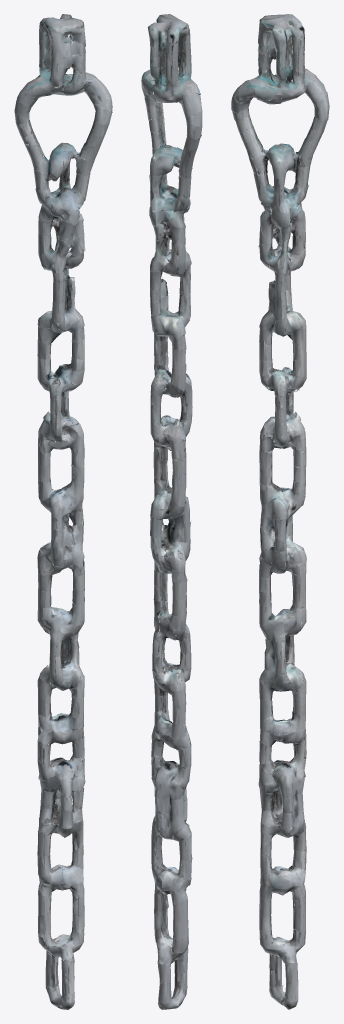
Rendered from chainceil.glb.
The picture shows the model from 3 angles, left to right: view 1: azimuth 90°, elevation 25°; view 2: azimuth 210°, elevation 25°; view 3: azimuth 270°, elevation 25°; orthographic projection.
Visible parts, largest first — view 1: Mesh_0; view 2: Mesh_0; view 3: Mesh_0.
Boxes of the visible parts, box(x1,y1,x2,y2) form: Mesh_0: box(14, 14, 112, 1009); Mesh_0: box(141, 14, 202, 1009); Mesh_0: box(231, 14, 329, 1009).
Size of the model in its own units: 0.0858 by 2 by 0.1803.
Materials: 1 (1 with a texture image).
